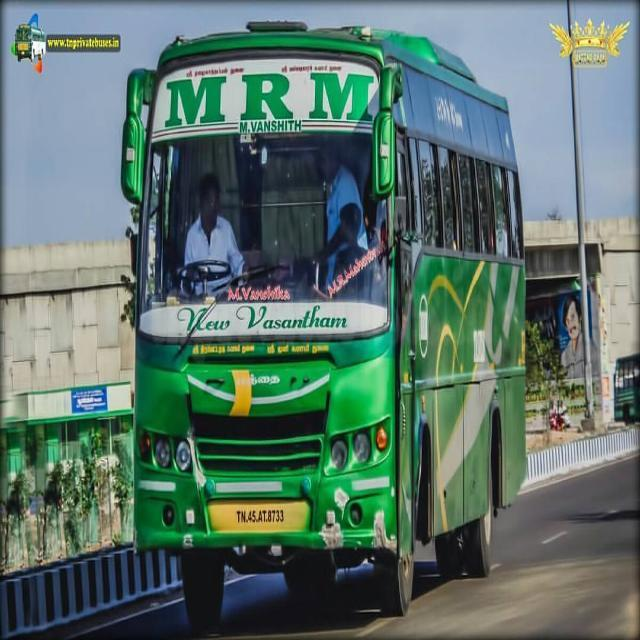Bus: (116, 12, 529, 616), (612, 352, 640, 422)
